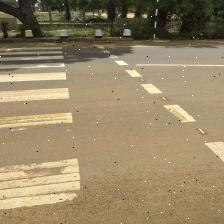crossing: (2, 41, 72, 223), (0, 72, 68, 82), (162, 104, 196, 123), (136, 64, 224, 66)
